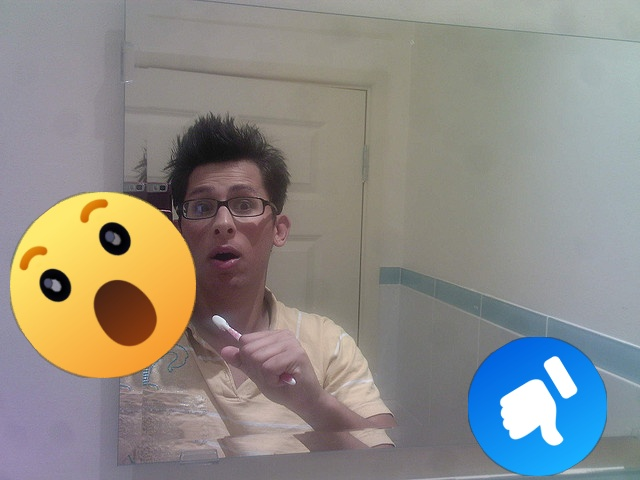like: (468, 337, 607, 476)
wow: (10, 192, 196, 378)
